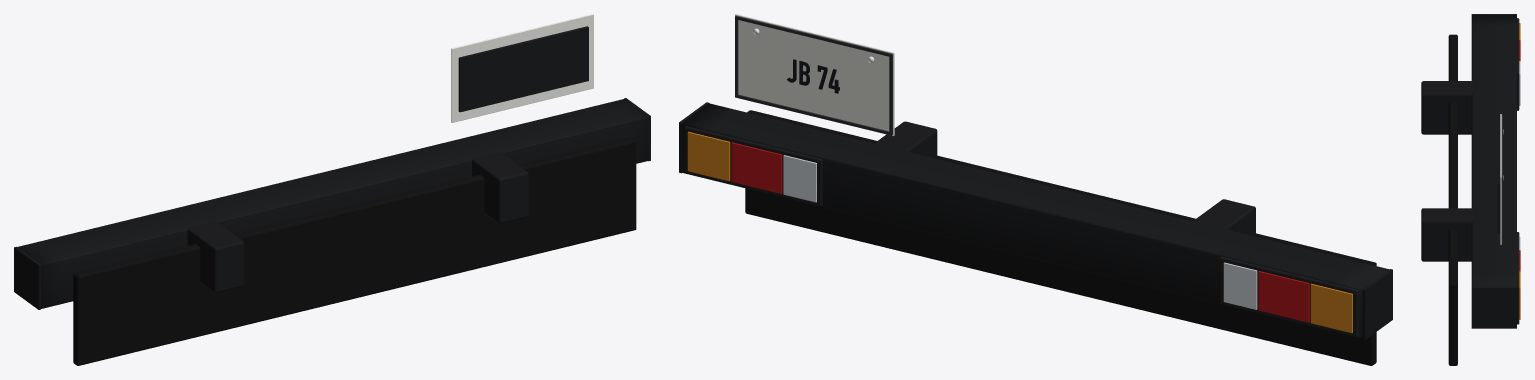
Rendered from rearBumper_wildgoose_box_rear.glb.
3 views of the same model, side by side, from view 1: azimuth 30°, elevation 25°; view 2: azimuth 150°, elevation 25°; view 3: azimuth 270°, elevation 25° (orthographic). The views are drawn at different scales.
Visible parts, largest first — view 1: valance.029, beam.006, plateBracket.001, plate.036, mount-1.029, mount1.029, endCap-1.012; view 2: beam.006, valance.029, plate.036, lampSeg-11.004, lampSeg11.004, lampBezel-1.002, lampBezel1.002, lampSeg12.004, lampSeg-10.004, endCap-1.012, mount-1.029, lampSeg-12.004 (+5 smaller); view 3: beam.006, valance.029, mount-1.029, mount1.029, endCap1.012, plateBracket.001, lampBezel-1.002, lampBezel1.002, plate.036, plateRim34_3, plateRim34_0, lampSeg12.004.
Part boxes in pixels (x1,y1,x2,y2): valance.029: (73,138,636,365); beam.006: (17,99,648,308); plateBracket.001: (458,26,588,112); plate.036: (451,14,593,122); mount-1.029: (187,221,244,292); mount1.029: (472,152,528,223); endCap-1.012: (14,246,40,309); beam.006: (681,103,1389,338); valance.029: (745,110,1376,365); plate.036: (735,14,894,136); lampSeg-11.004: (1258,271,1309,322); lampSeg11.004: (731,142,782,193); lampBezel-1.002: (1220,257,1358,337); lampBezel1.002: (684,126,822,206); lampSeg12.004: (687,131,730,181); lampSeg-10.004: (1310,283,1352,333); endCap-1.012: (1362,269,1392,339); mount-1.029: (1193,199,1255,233); lampSeg-12.004: (1223,262,1257,309); beam.006: (1471,15,1516,286); valance.029: (1448,34,1457,365); mount-1.029: (1421,81,1473,134); mount1.029: (1421,208,1473,261); endCap1.012: (1471,286,1516,328); plateBracket.001: (1497,126,1500,232); lampBezel-1.002: (1517,18,1519,110); lampBezel1.002: (1517,232,1519,324); plate.036: (1500,114,1501,244); plateRim34_3: (1501,178,1502,243); plateRim34_0: (1501,115,1502,177); lampSeg12.004: (1519,271,1520,319).
Size of the model in its own units: 1.42 by 0.4425 by 0.2175.
